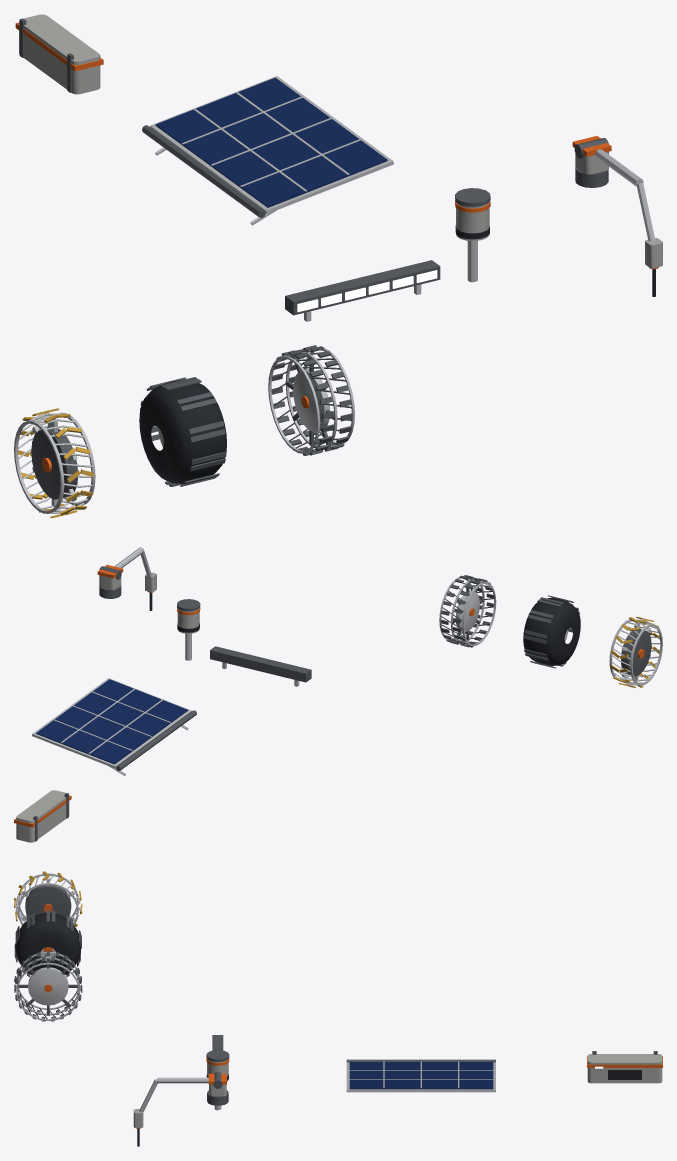
Rendered from rover_upgrade_kit.glb.
3 renders of one model, top to bottom at view 1: azimuth 30°, elevation 25°; view 2: azimuth 150°, elevation 25°; view 3: azimuth 270°, elevation 25°, orthographic. The views are drawn at different scales.
Parts seen in each view (by area): view 1: kit_solar_wing, kit_wheel_balloon, kit_wheel_mesh, kit_wheel_spring, kit_battery_pod, kit_light_bar, kit_dust_filter, kit_drill_boom, kit_drill_arm; view 2: kit_solar_wing, kit_wheel_balloon, kit_wheel_mesh, kit_wheel_spring, kit_battery_pod, kit_light_bar, kit_dust_filter, kit_drill_boom, kit_drill_arm; view 3: kit_solar_wing, kit_wheel_mesh, kit_wheel_balloon, kit_battery_pod, kit_wheel_spring, kit_drill_boom, kit_dust_filter, kit_drill_arm.
Part boxes in pixels (bbox=[...]): kit_solar_wing: bbox=[142, 76, 393, 225]; kit_wheel_balloon: bbox=[139, 377, 226, 486]; kit_wheel_mesh: bbox=[268, 345, 354, 455]; kit_wheel_spring: bbox=[14, 408, 95, 518]; kit_battery_pod: bbox=[15, 14, 103, 94]; kit_light_bar: bbox=[285, 260, 440, 321]; kit_dust_filter: bbox=[455, 188, 490, 282]; kit_drill_boom: bbox=[574, 138, 662, 296]; kit_drill_arm: bbox=[572, 136, 611, 187]; kit_solar_wing: bbox=[32, 678, 196, 775]; kit_wheel_balloon: bbox=[523, 595, 580, 668]; kit_wheel_mesh: bbox=[439, 575, 496, 647]; kit_wheel_spring: bbox=[609, 616, 662, 687]; kit_battery_pod: bbox=[14, 790, 71, 842]; kit_light_bar: bbox=[210, 646, 311, 686]; kit_dust_filter: bbox=[177, 599, 200, 660]; kit_drill_boom: bbox=[99, 547, 156, 610]; kit_drill_arm: bbox=[97, 565, 123, 598]; kit_solar_wing: bbox=[346, 1059, 495, 1092]; kit_wheel_mesh: bbox=[14, 951, 82, 1021]; kit_wheel_balloon: bbox=[14, 910, 81, 977]; kit_battery_pod: bbox=[587, 1051, 662, 1083]; kit_wheel_spring: bbox=[14, 871, 82, 926]; kit_drill_boom: bbox=[133, 1072, 222, 1146]; kit_dust_filter: bbox=[206, 1050, 229, 1110]; kit_drill_arm: bbox=[207, 1073, 228, 1105].
Bounding box in the file's own units: 7.64 × 1.14 × 9.57.
